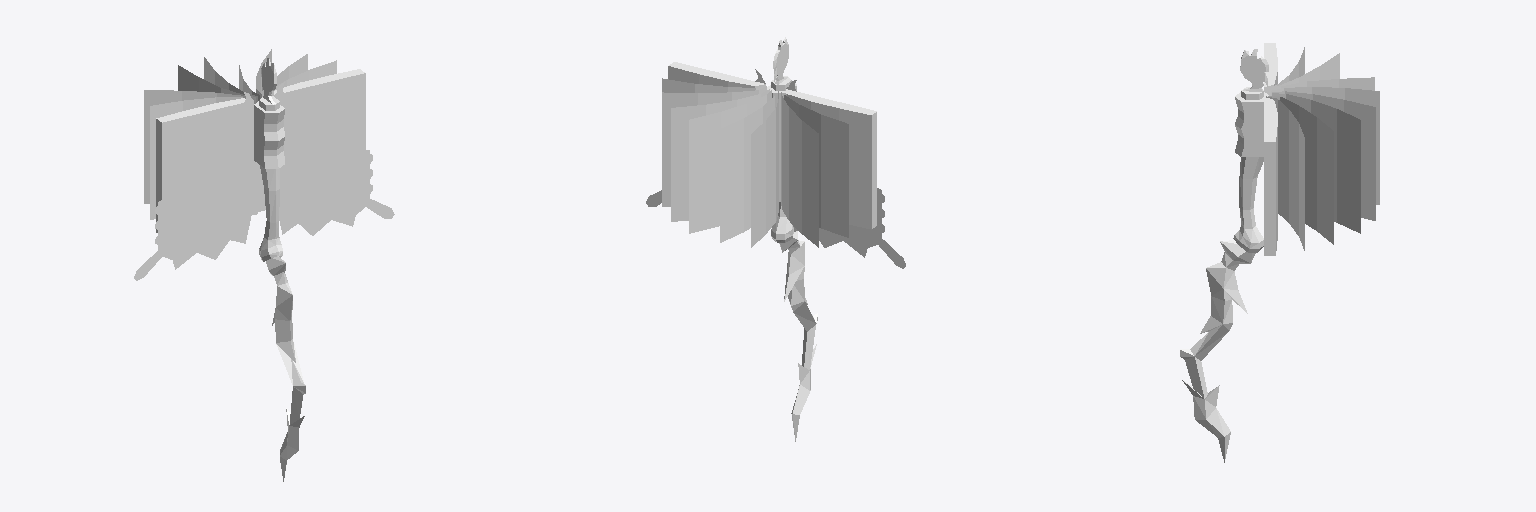
The model's file is shadowwarlock07.obj.
The picture shows the model from 3 angles: view 1: azimuth 30°, elevation 25°; view 2: azimuth 150°, elevation 25°; view 3: azimuth 270°, elevation 25°; orthographic projection.
Visible parts, largest first — view 1: w2dbk07; view 2: w2dbk07; view 3: w2dbk07.
Boxes of the visible parts, x1=… form: w2dbk07: x1=134, y1=49, x2=394, y2=481; w2dbk07: x1=646, y1=37, x2=905, y2=441; w2dbk07: x1=1180, y1=43, x2=1379, y2=462.
Bounding box in the file's own units: 0.9077 × 1.38 × 0.6043.